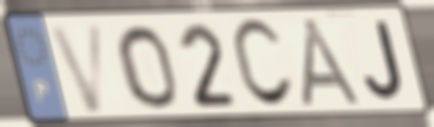2: (176, 20, 240, 110)
A: (298, 16, 368, 109)
C: (229, 16, 298, 112)
J: (362, 18, 408, 103)
O: (113, 22, 181, 111)
V: (46, 20, 107, 117)
